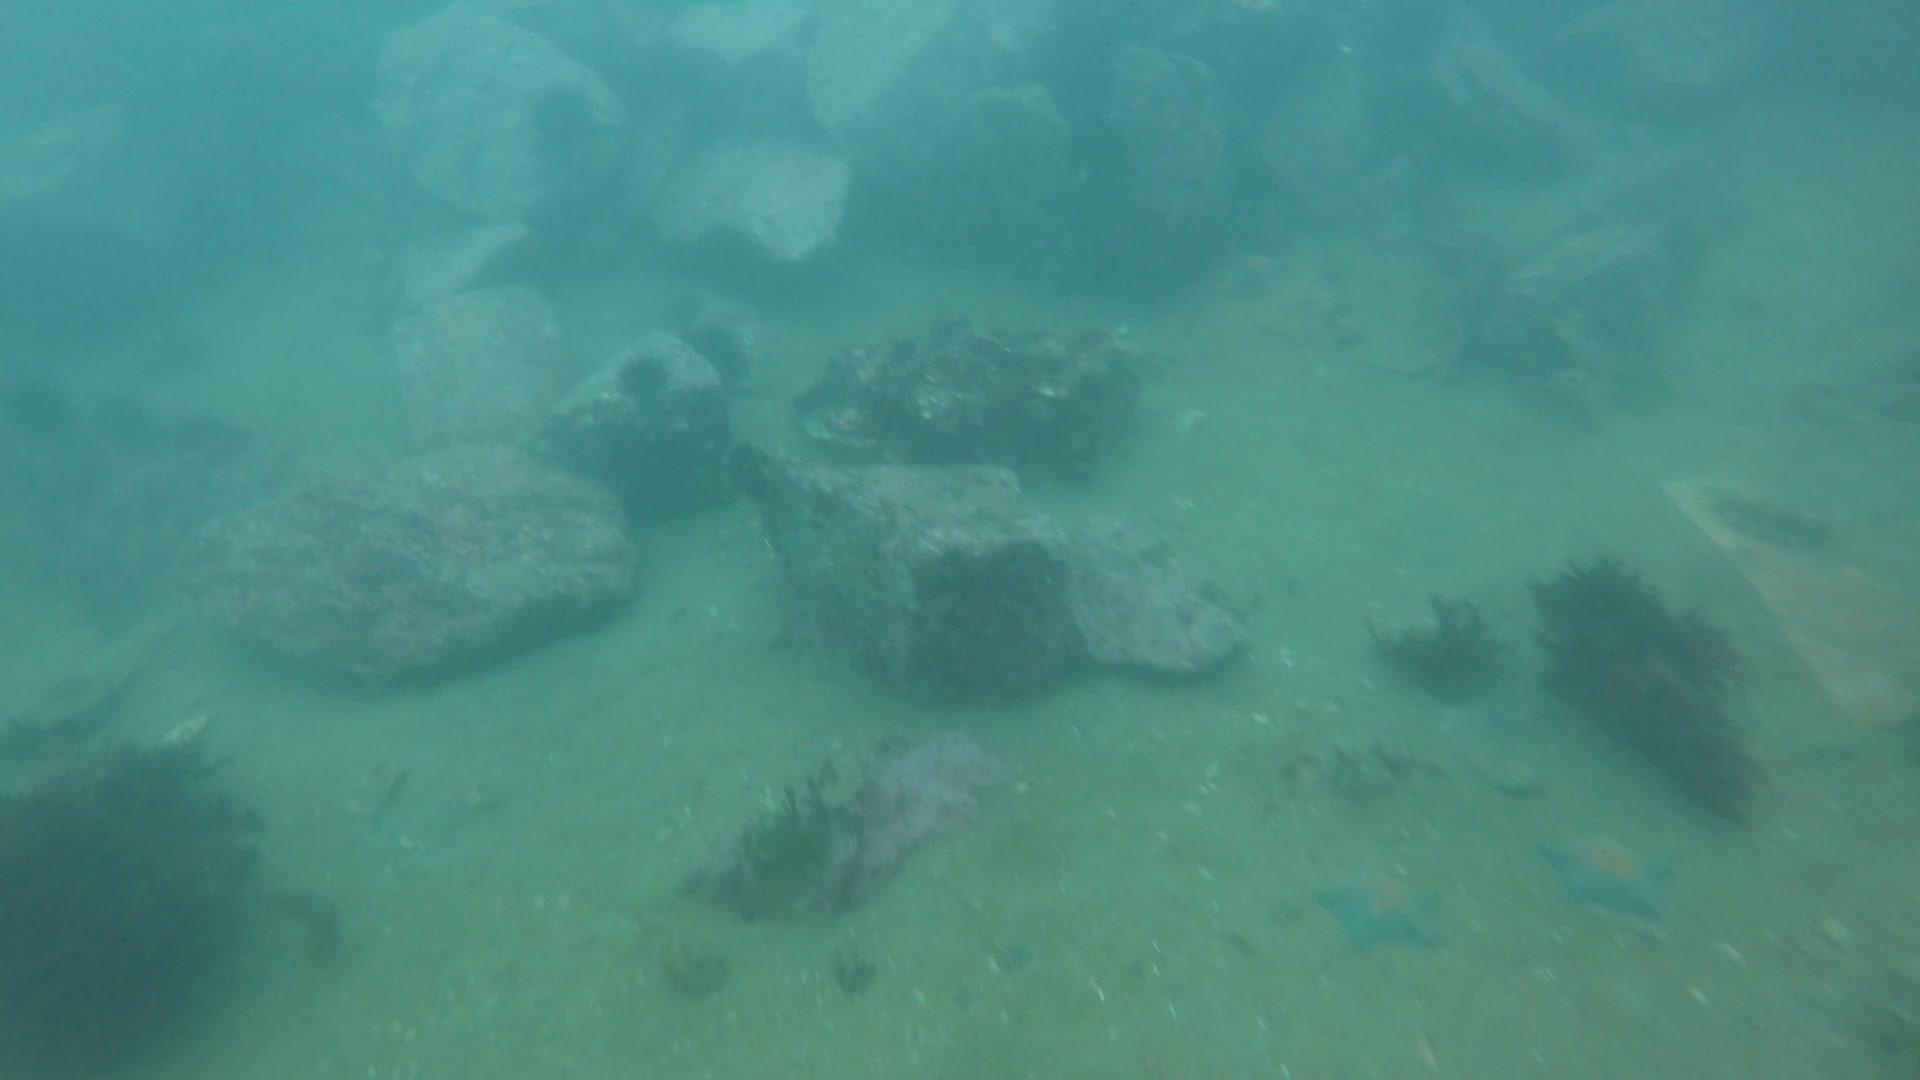echinus: (520, 76, 604, 164), (680, 314, 757, 390), (609, 347, 678, 414)
holothurian: (1698, 476, 1844, 556)
starfish: (1534, 824, 1677, 928), (1309, 858, 1448, 961), (1213, 243, 1298, 309)
